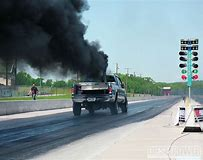smoke: (1, 1, 108, 74)
